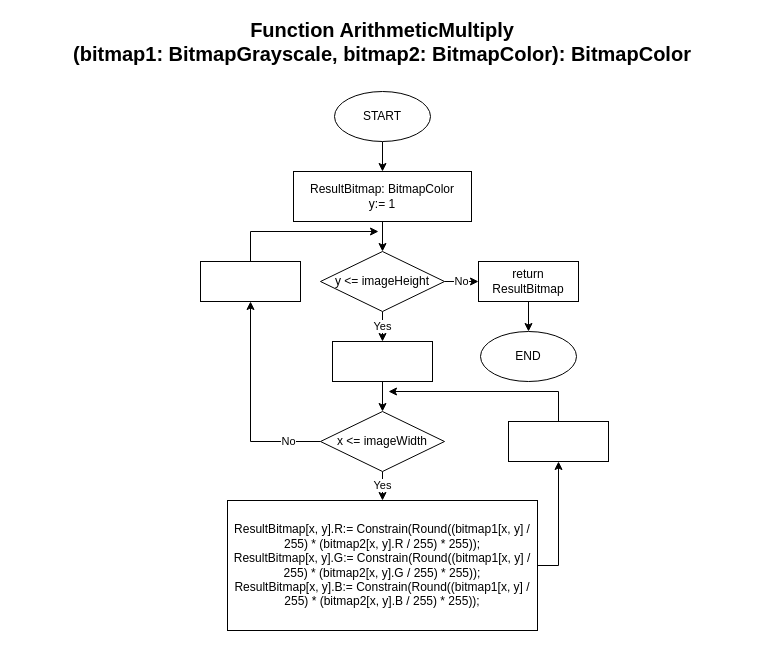
This 764x648 diagram has some shape labels left out. Here are the shapes that lost their labels. From the top down, the centre of each, then its label:
At (250,281): "y:= y + 1".
At (382,361): "x:= 1".
At (558,441): "x:= x + 1".
